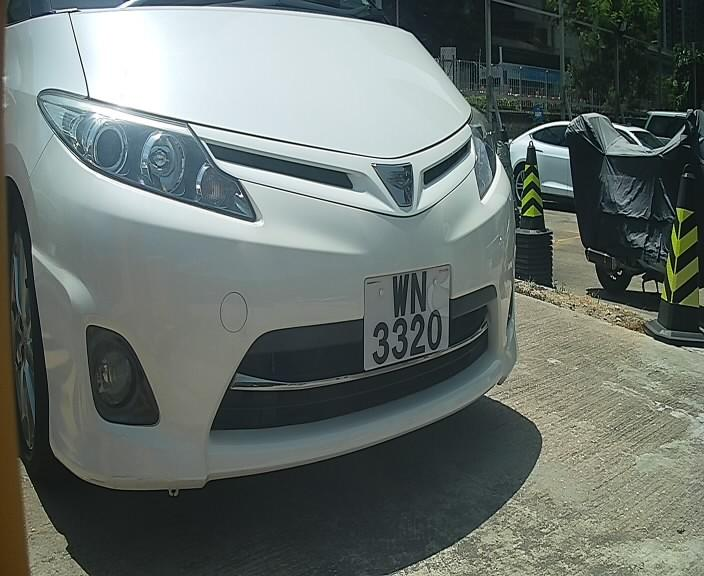License Plate: (356, 258, 453, 381)
